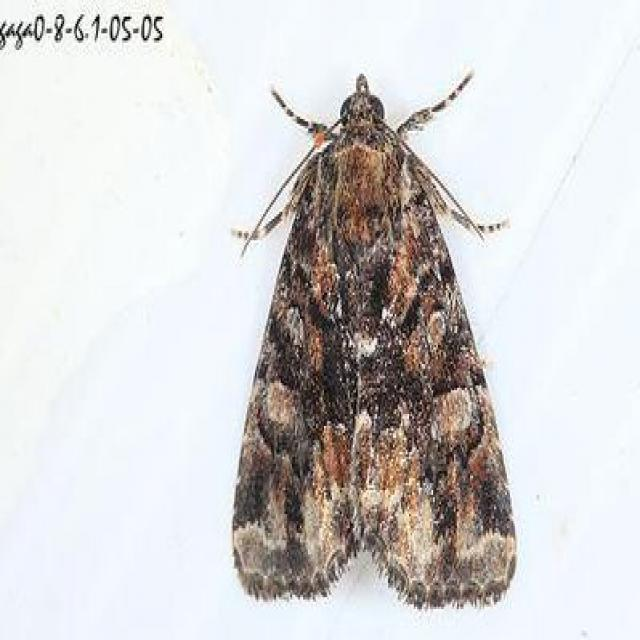armyworm: (236, 62, 523, 615)
